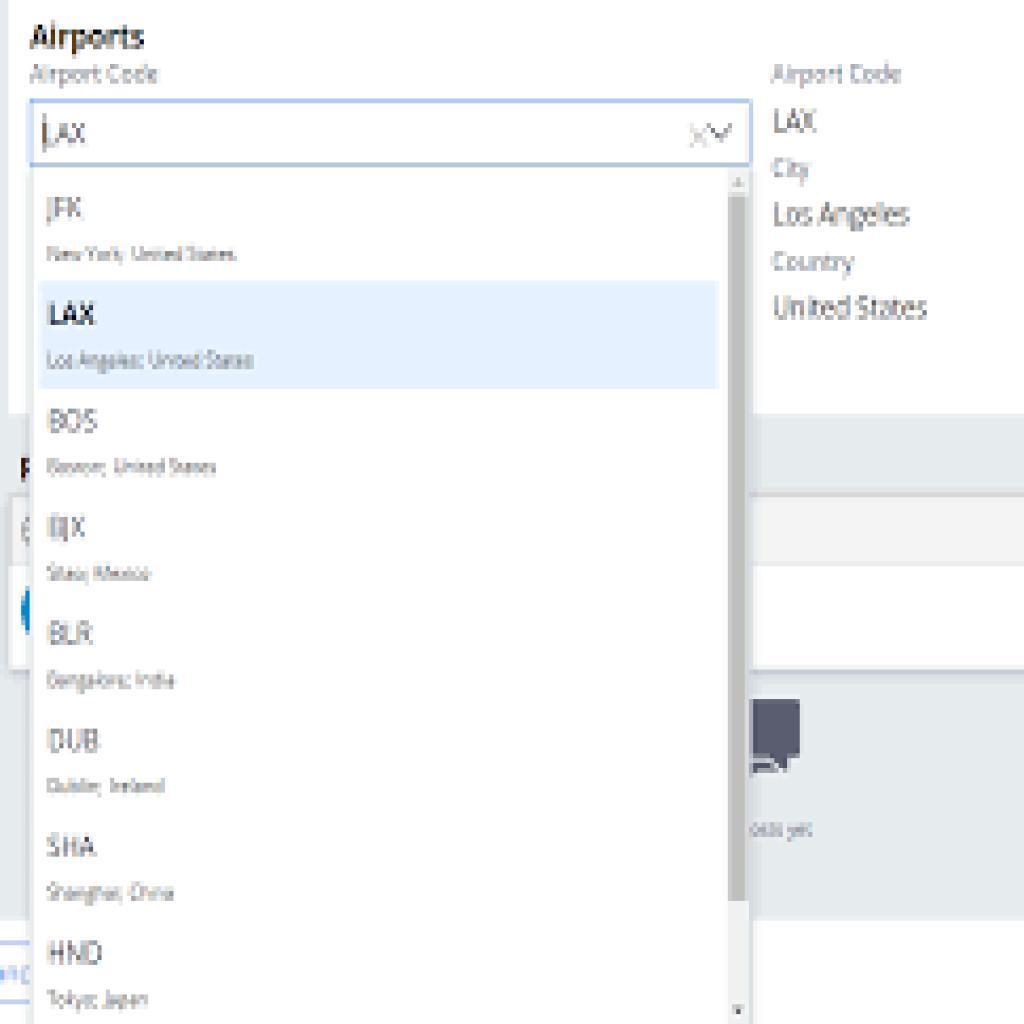button: (40, 281, 721, 388)
dropdown: (31, 101, 754, 169)
